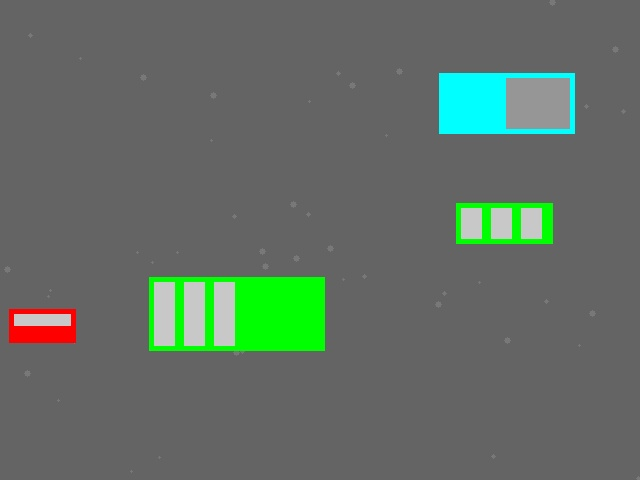bus: (149, 277, 324, 350), (456, 203, 552, 243)
car: (9, 309, 75, 342)
truck: (439, 73, 574, 133)
